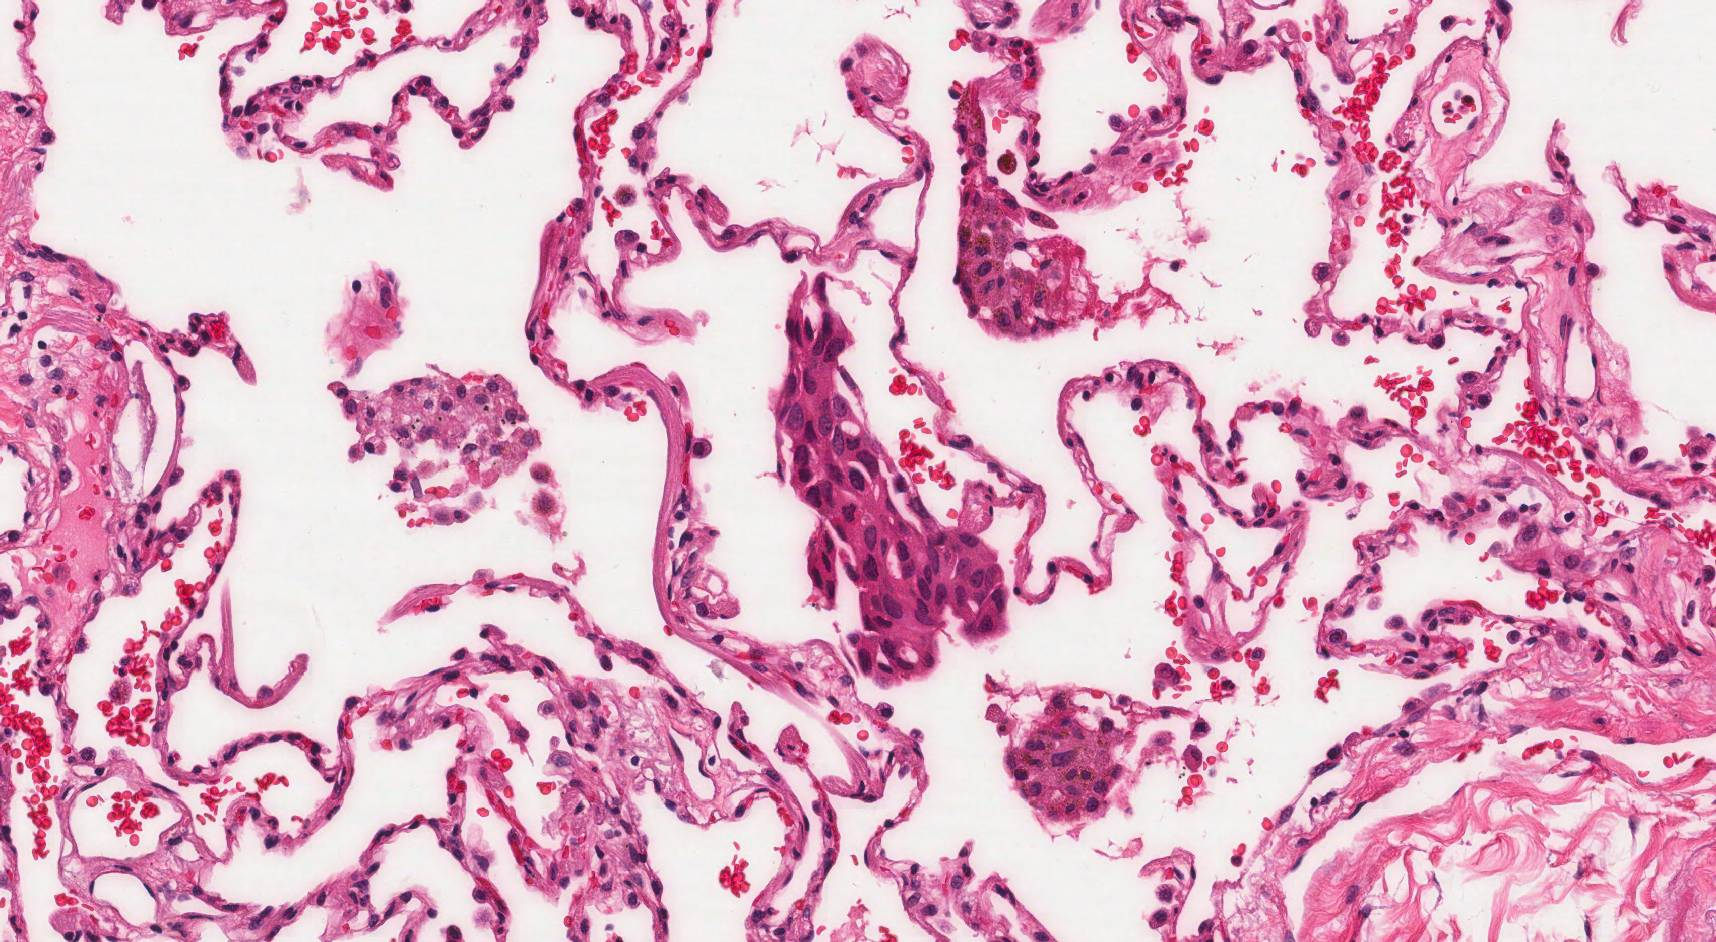stas: (769, 271, 1013, 687)
